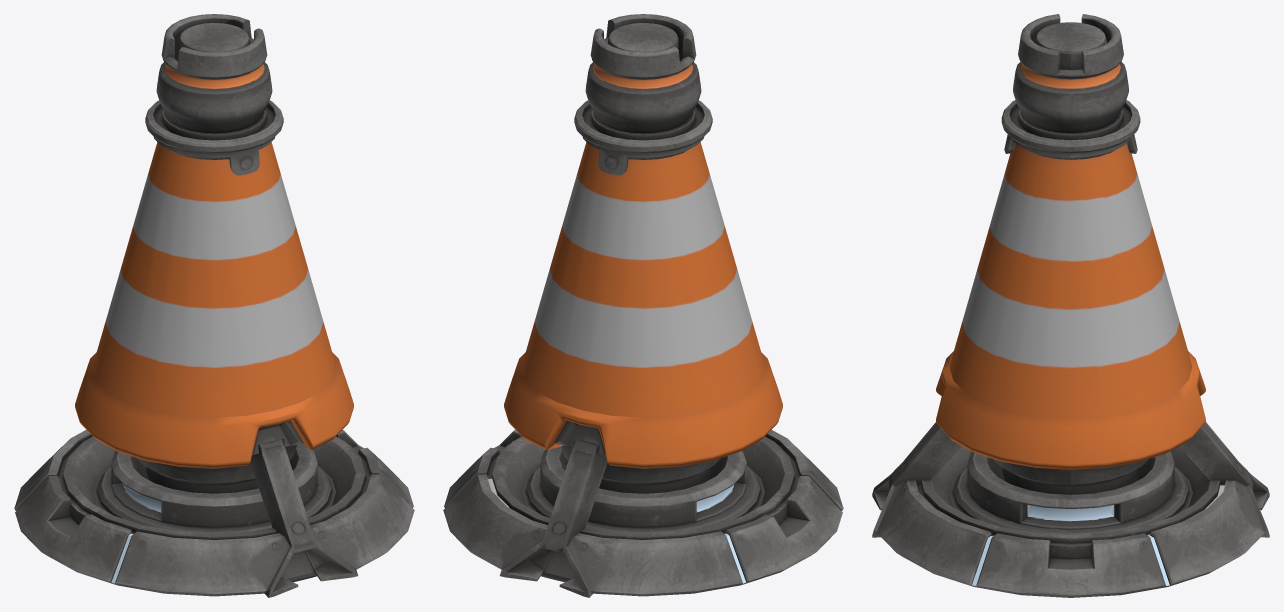
The model's file is Trafficcone.fbx.
The picture shows the model from 3 angles, left to right: view 1: azimuth 30°, elevation 25°; view 2: azimuth 150°, elevation 25°; view 3: azimuth 270°, elevation 25°; orthographic projection.
Visible parts, largest first — view 1: TrafficCone; view 2: TrafficCone; view 3: TrafficCone.
Boxes of the visible parts, x1=… form: TrafficCone: x1=14, y1=14, x2=414, y2=597; TrafficCone: x1=443, y1=14, x2=843, y2=597; TrafficCone: x1=872, y1=14, x2=1269, y2=597.
Size of the model in its own units: 67.6 by 90.81 by 66.74.
